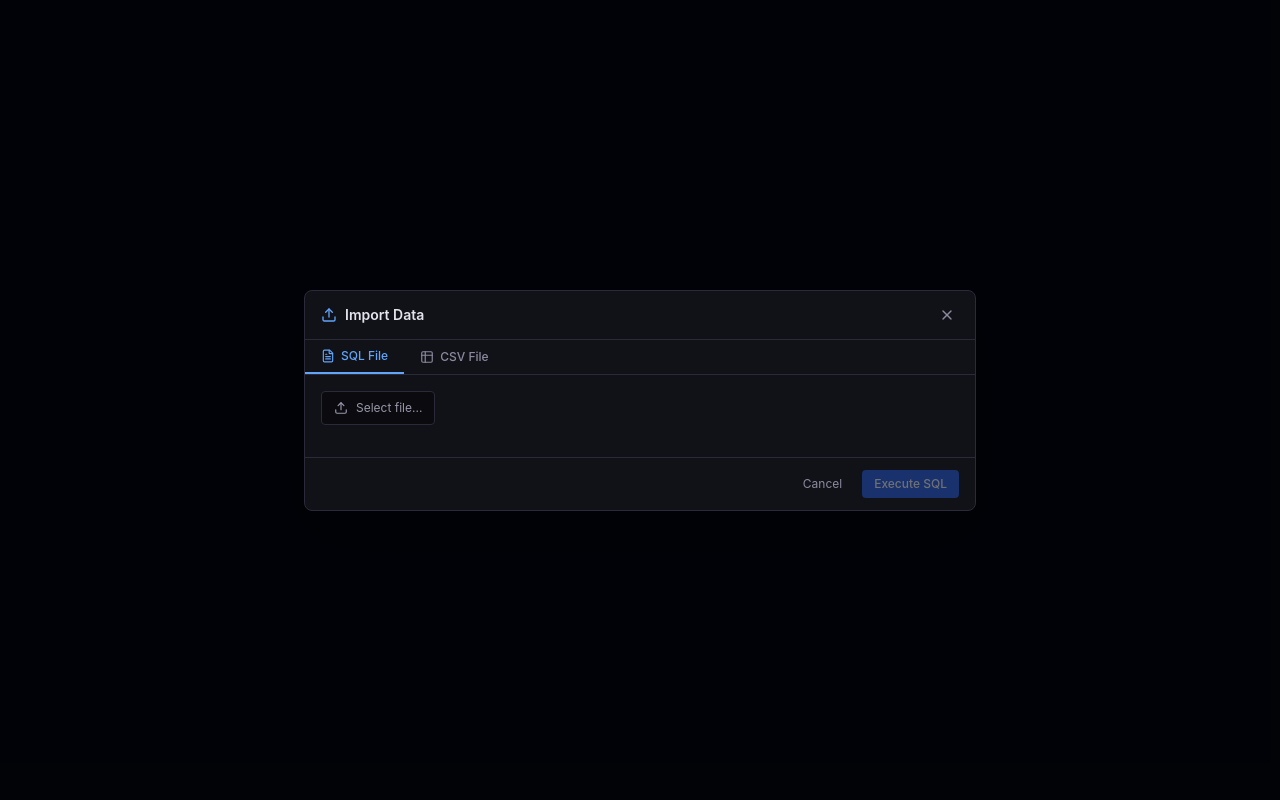
Test: ImportDialog › SQL mode › reads only the head of the file for the preview
Click the button "Select file...".
click(378, 408)  # box [321,390,435,424]
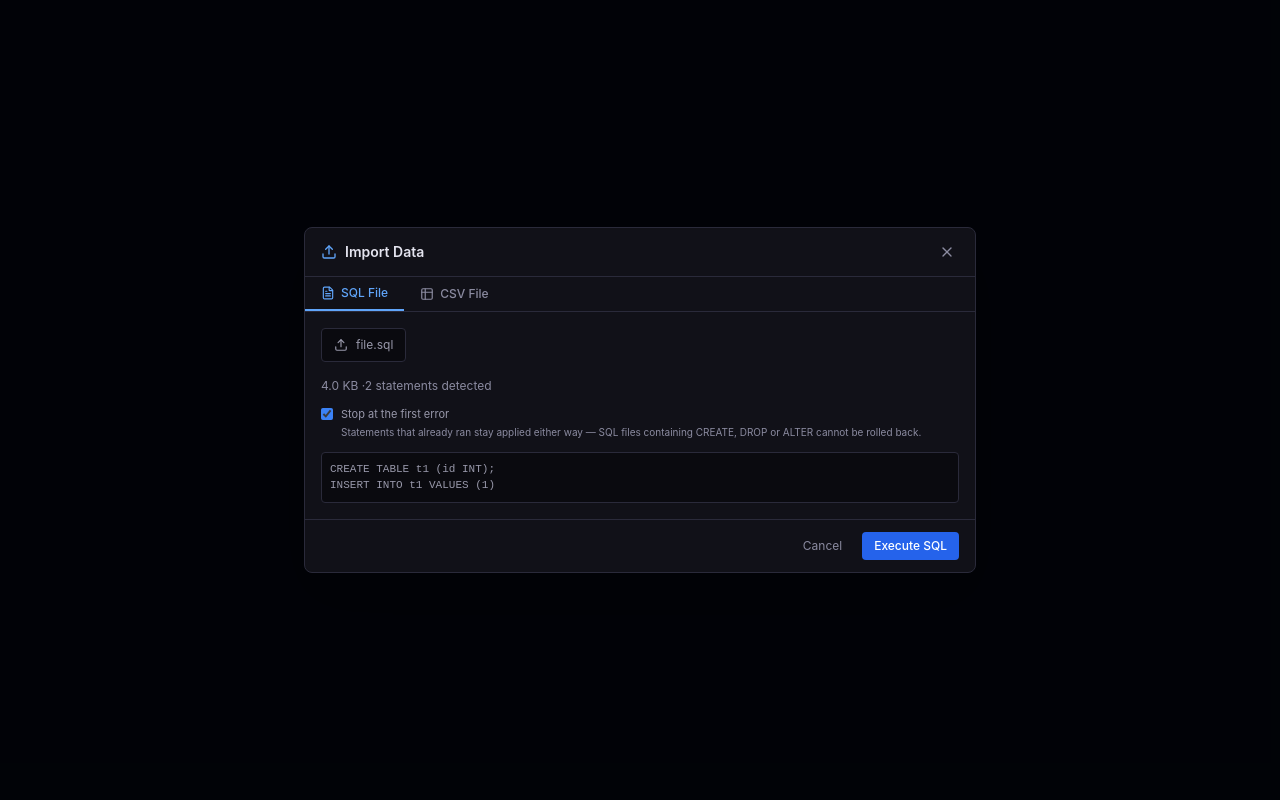
Expected: the text "4.0 KB ·2 statements detected" is shown, [321,378,492,393]
